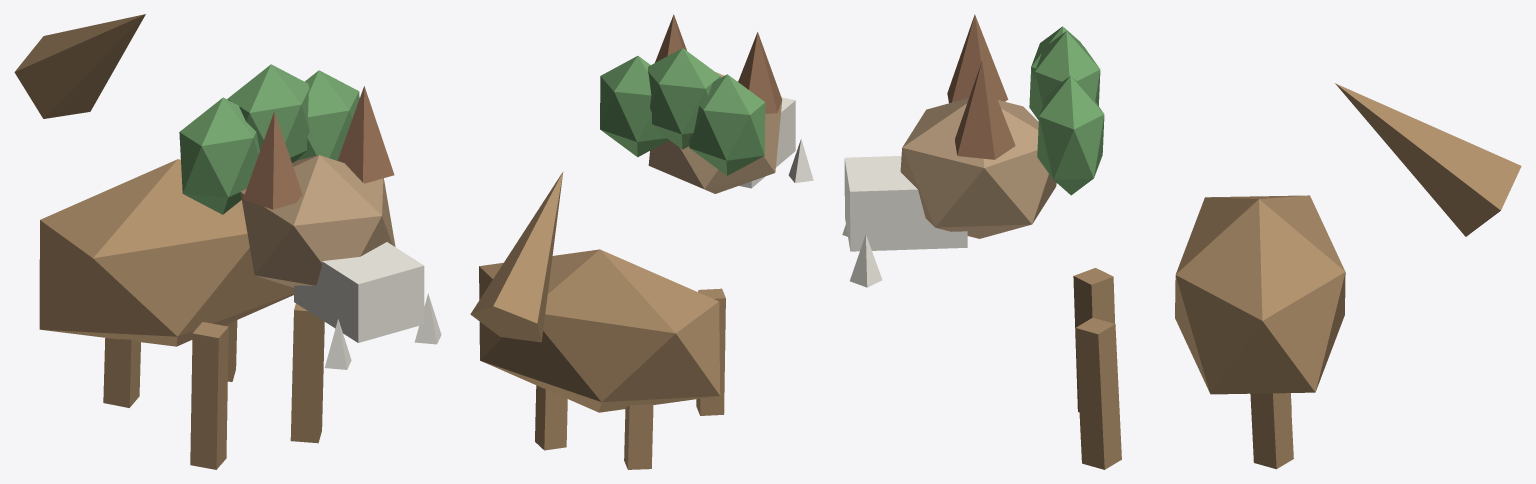
File: npcpose_wolf_idle_01.glb
3 renders of one model, left to right at view 1: azimuth 30°, elevation 25°; view 2: azimuth 150°, elevation 25°; view 3: azimuth 270°, elevation 25°, orthographic. The views are drawn at different scales.
Parts seen in each view (by area): view 1: npcpose; view 2: npcpose; view 3: npcpose.
Boxes of the visible parts, x1=… form: npcpose: x1=14, y1=14, x2=441, y2=469; npcpose: x1=470, y1=14, x2=813, y2=469; npcpose: x1=842, y1=14, x2=1521, y2=469.
Bounding box in the file's own units: 0.8872 × 1.22 × 1.85.
